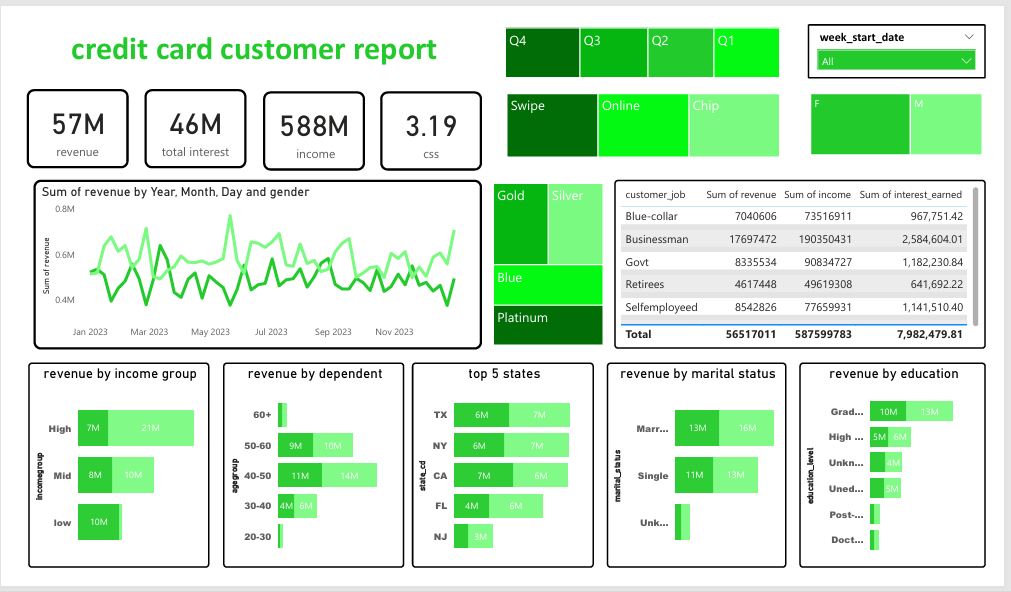

What the dashboard file says about the page in this screenshot:
{"tool":"powerbi","page":{"name":"cc customer","canvas":[1280,720],"ordinal":1},"visuals":[{"type":"slicer","fields":{"Values":["public cc_detail.week_start_date"]},"box":[1044,0,236.2,72],"z":0},{"type":"textbox","box":[10.1,0,603.4,72],"z":1000},{"type":"barChart","title":"revenue by income group","fields":{"Y":["Sum(public cc_detail.revenue)"],"Category":["public cust_detail.incomegroup"],"Series":["public cust_detail.gender"]},"box":[11.6,447.8,240,272.5],"z":2000},{"type":"tableEx","fields":{"Values":["public cust_detail.customer_job","Sum(public cc_detail.revenue)","Sum(public cust_detail.income)","Sum(public cc_detail.interest_earned)"]},"box":[788.4,205.8,491.3,224.6],"z":3000},{"type":"card","fields":{"Values":["Sum(public cc_detail.revenue)"]},"box":[10.1,86.4,135,105],"z":4000},{"type":"card","fields":{"Values":["Sum(public cc_detail.total_trans_amt)"]},"box":[165.6,86.4,135,105],"z":5000},{"type":"card","fields":{"Values":["Avg(public cust_detail.cust_satisfaction_score)"]},"box":[478.1,89.3,135.4,105.1],"z":6000},{"type":"treemap","fields":{"Group":["public cc_detail.qtr"],"Values":["Avg(public cc_detail.client_num)"]},"box":[639.4,0,373,76.3],"z":7000},{"type":"treemap","fields":{"Group":["public cust_detail.gender"],"Values":["CountNonNull(public cc_detail.client_num)"]},"box":[1043.5,87,236.2,91.3],"z":8000},{"type":"treemap","fields":{"Group":["public cc_detail.card_category"],"Values":["Avg(public cc_detail.client_num)"]},"box":[623.2,205.8,155.1,224.6],"z":9000},{"type":"card","fields":{"Values":["Sum(public cust_detail.income)"]},"box":[322.6,89.3,135.4,105.1],"z":10000},{"type":"lineChart","fields":{"Y":["Sum(public cc_detail.revenue)"],"Series":["public cust_detail.gender"],"Category":["public cc_detail.week_start_date.Variation.Date Hierarchy.Year","public cc_detail.week_start_date.Variation.Date Hierarchy.Month","public cc_detail.week_start_date.Variation.Date Hierarchy.Day"]},"box":[18.7,205.9,594.7,224.6],"z":11000},{"type":"barChart","title":"revenue by dependent","fields":{"Y":["Sum(public cc_detail.revenue)"],"Category":["public cust_detail.agegroup"],"Series":["public cust_detail.gender"]},"box":[269.6,447.8,240.6,272.5],"z":13000},{"type":"barChart","title":"revenue by marital status","fields":{"Y":["Sum(public cc_detail.revenue)"],"Category":["public cust_detail.marital_status"],"Series":["public cust_detail.gender"]},"box":[778.3,447.8,237.7,272.5],"z":14000},{"type":"barChart","title":"revenue by education","fields":{"Y":["Sum(public cc_detail.revenue)"],"Category":["public cust_detail.education_level"],"Series":["public cust_detail.gender"]},"box":[1033.3,447.8,246.4,272.5],"z":15000},{"type":"barChart","title":" top 5 states","fields":{"Y":["Sum(public cc_detail.revenue)"],"Category":["public cust_detail.state_cd"],"Series":["public cust_detail.gender"]},"box":[520.3,447.8,240.6,272.5],"z":16000},{"type":"treemap","fields":{"Values":["Avg(public cc_detail.client_num)"],"Group":["public cc_detail.use_chip"]},"box":[640.6,87,371,94.2],"z":17000}]}

Visuals, with their boxes in screenshot pixels (x1, y1, x2, y2):
slicer - public cc_detail.week_start_date: {"x1": 803, "y1": 24, "x2": 980, "y2": 78}
textbox: {"x1": 26, "y1": 24, "x2": 479, "y2": 78}
"revenue by income group" barChart: {"x1": 27, "y1": 360, "x2": 207, "y2": 565}
tableEx - public cust_detail.customer_job x Sum(public cc_detail.revenue): {"x1": 611, "y1": 178, "x2": 980, "y2": 347}
card - Sum(public cc_detail.revenue): {"x1": 26, "y1": 89, "x2": 127, "y2": 168}
card - Sum(public cc_detail.total_trans_amt): {"x1": 143, "y1": 89, "x2": 244, "y2": 168}
card - Avg(public cust_detail.cust_satisfaction_score): {"x1": 378, "y1": 91, "x2": 479, "y2": 170}
treemap - public cc_detail.qtr x Avg(public cc_detail.client_num): {"x1": 499, "y1": 24, "x2": 779, "y2": 81}
treemap - public cust_detail.gender x CountNonNull(public cc_detail.client_num): {"x1": 802, "y1": 89, "x2": 980, "y2": 158}
treemap - public cc_detail.card_category x Avg(public cc_detail.client_num): {"x1": 487, "y1": 178, "x2": 603, "y2": 347}
card - Sum(public cust_detail.income): {"x1": 261, "y1": 91, "x2": 363, "y2": 170}
lineChart - Sum(public cc_detail.revenue) x public cust_detail.gender: {"x1": 32, "y1": 178, "x2": 479, "y2": 347}
"revenue by dependent" barChart: {"x1": 221, "y1": 360, "x2": 402, "y2": 565}
"revenue by marital status" barChart: {"x1": 603, "y1": 360, "x2": 782, "y2": 565}
"revenue by education" barChart: {"x1": 795, "y1": 360, "x2": 980, "y2": 565}
" top 5 states" barChart: {"x1": 409, "y1": 360, "x2": 590, "y2": 565}
treemap - Avg(public cc_detail.client_num) x public cc_detail.use_chip: {"x1": 500, "y1": 89, "x2": 778, "y2": 160}
